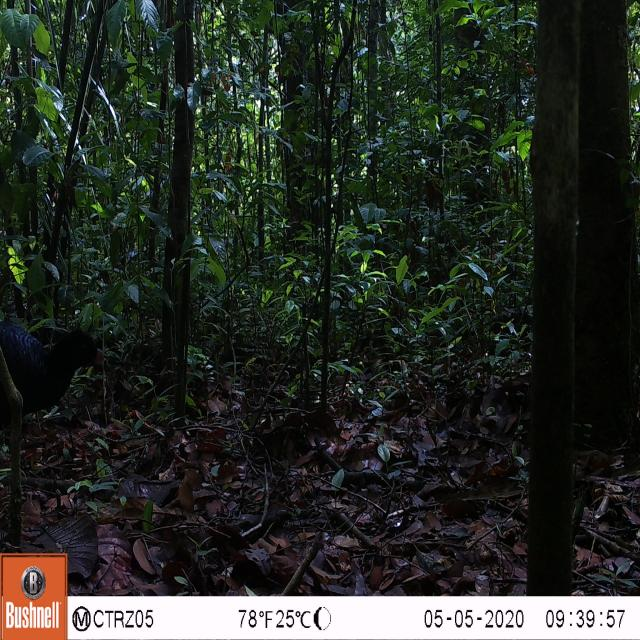Salvins Curassow: (0, 296, 107, 447)
